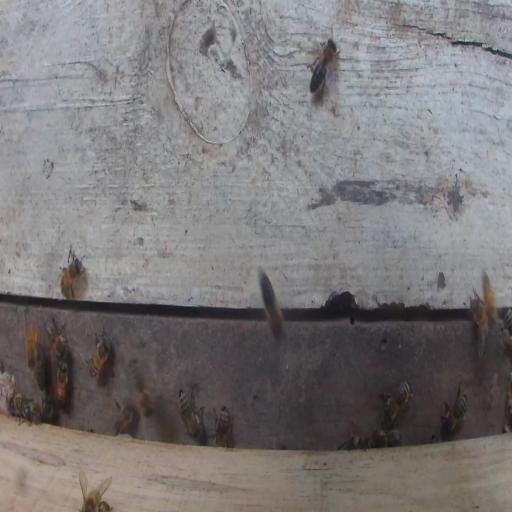nonpollenbee: (307, 37, 340, 97), (258, 268, 283, 342), (381, 380, 412, 428), (470, 286, 489, 359), (130, 361, 155, 416), (179, 390, 204, 441), (87, 330, 111, 379), (45, 315, 68, 362), (443, 394, 467, 435), (59, 257, 82, 298), (114, 396, 137, 436), (213, 406, 233, 448), (54, 359, 68, 408), (484, 270, 497, 321), (8, 393, 28, 422), (371, 429, 401, 447), (34, 349, 46, 393), (23, 402, 42, 424), (41, 394, 54, 422), (501, 307, 512, 336)
pollenbee: (24, 308, 38, 369)
